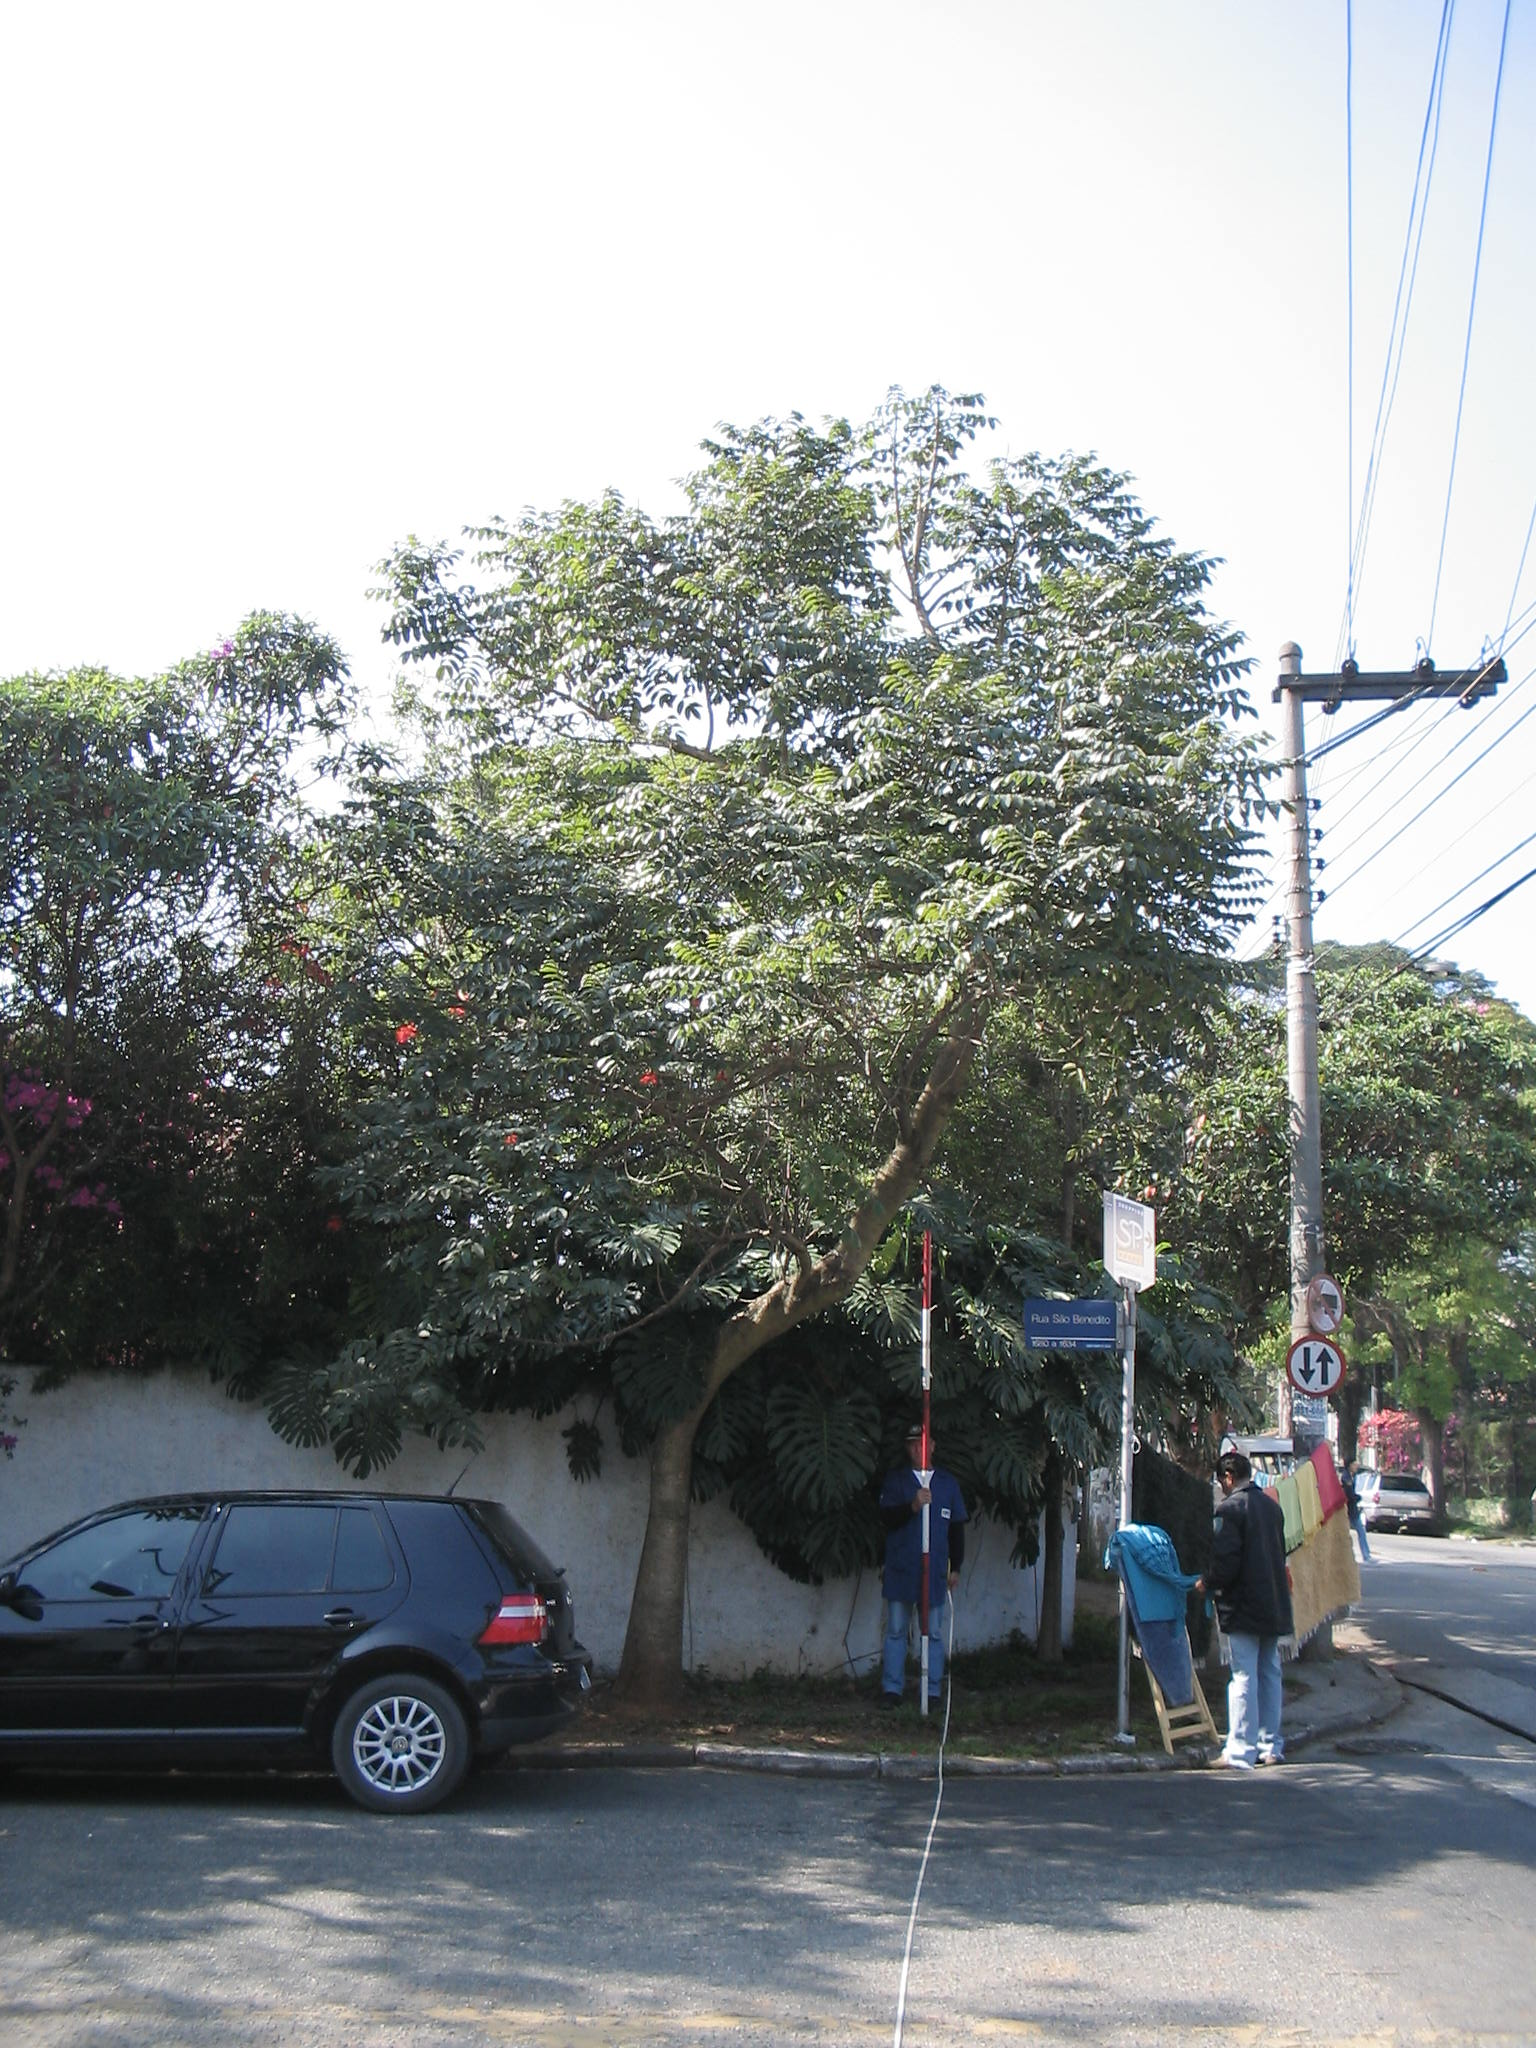crown: (200, 393, 1284, 1455)
stem: (599, 1447, 712, 1711)
stick: (899, 1226, 945, 1724)
tree: (195, 390, 1296, 1714)
